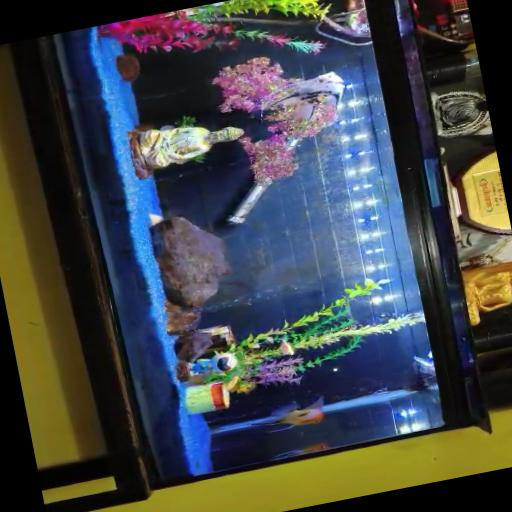Fish: (250, 396, 323, 432), (270, 71, 343, 105), (271, 442, 328, 460), (279, 338, 293, 354), (225, 376, 238, 389)
